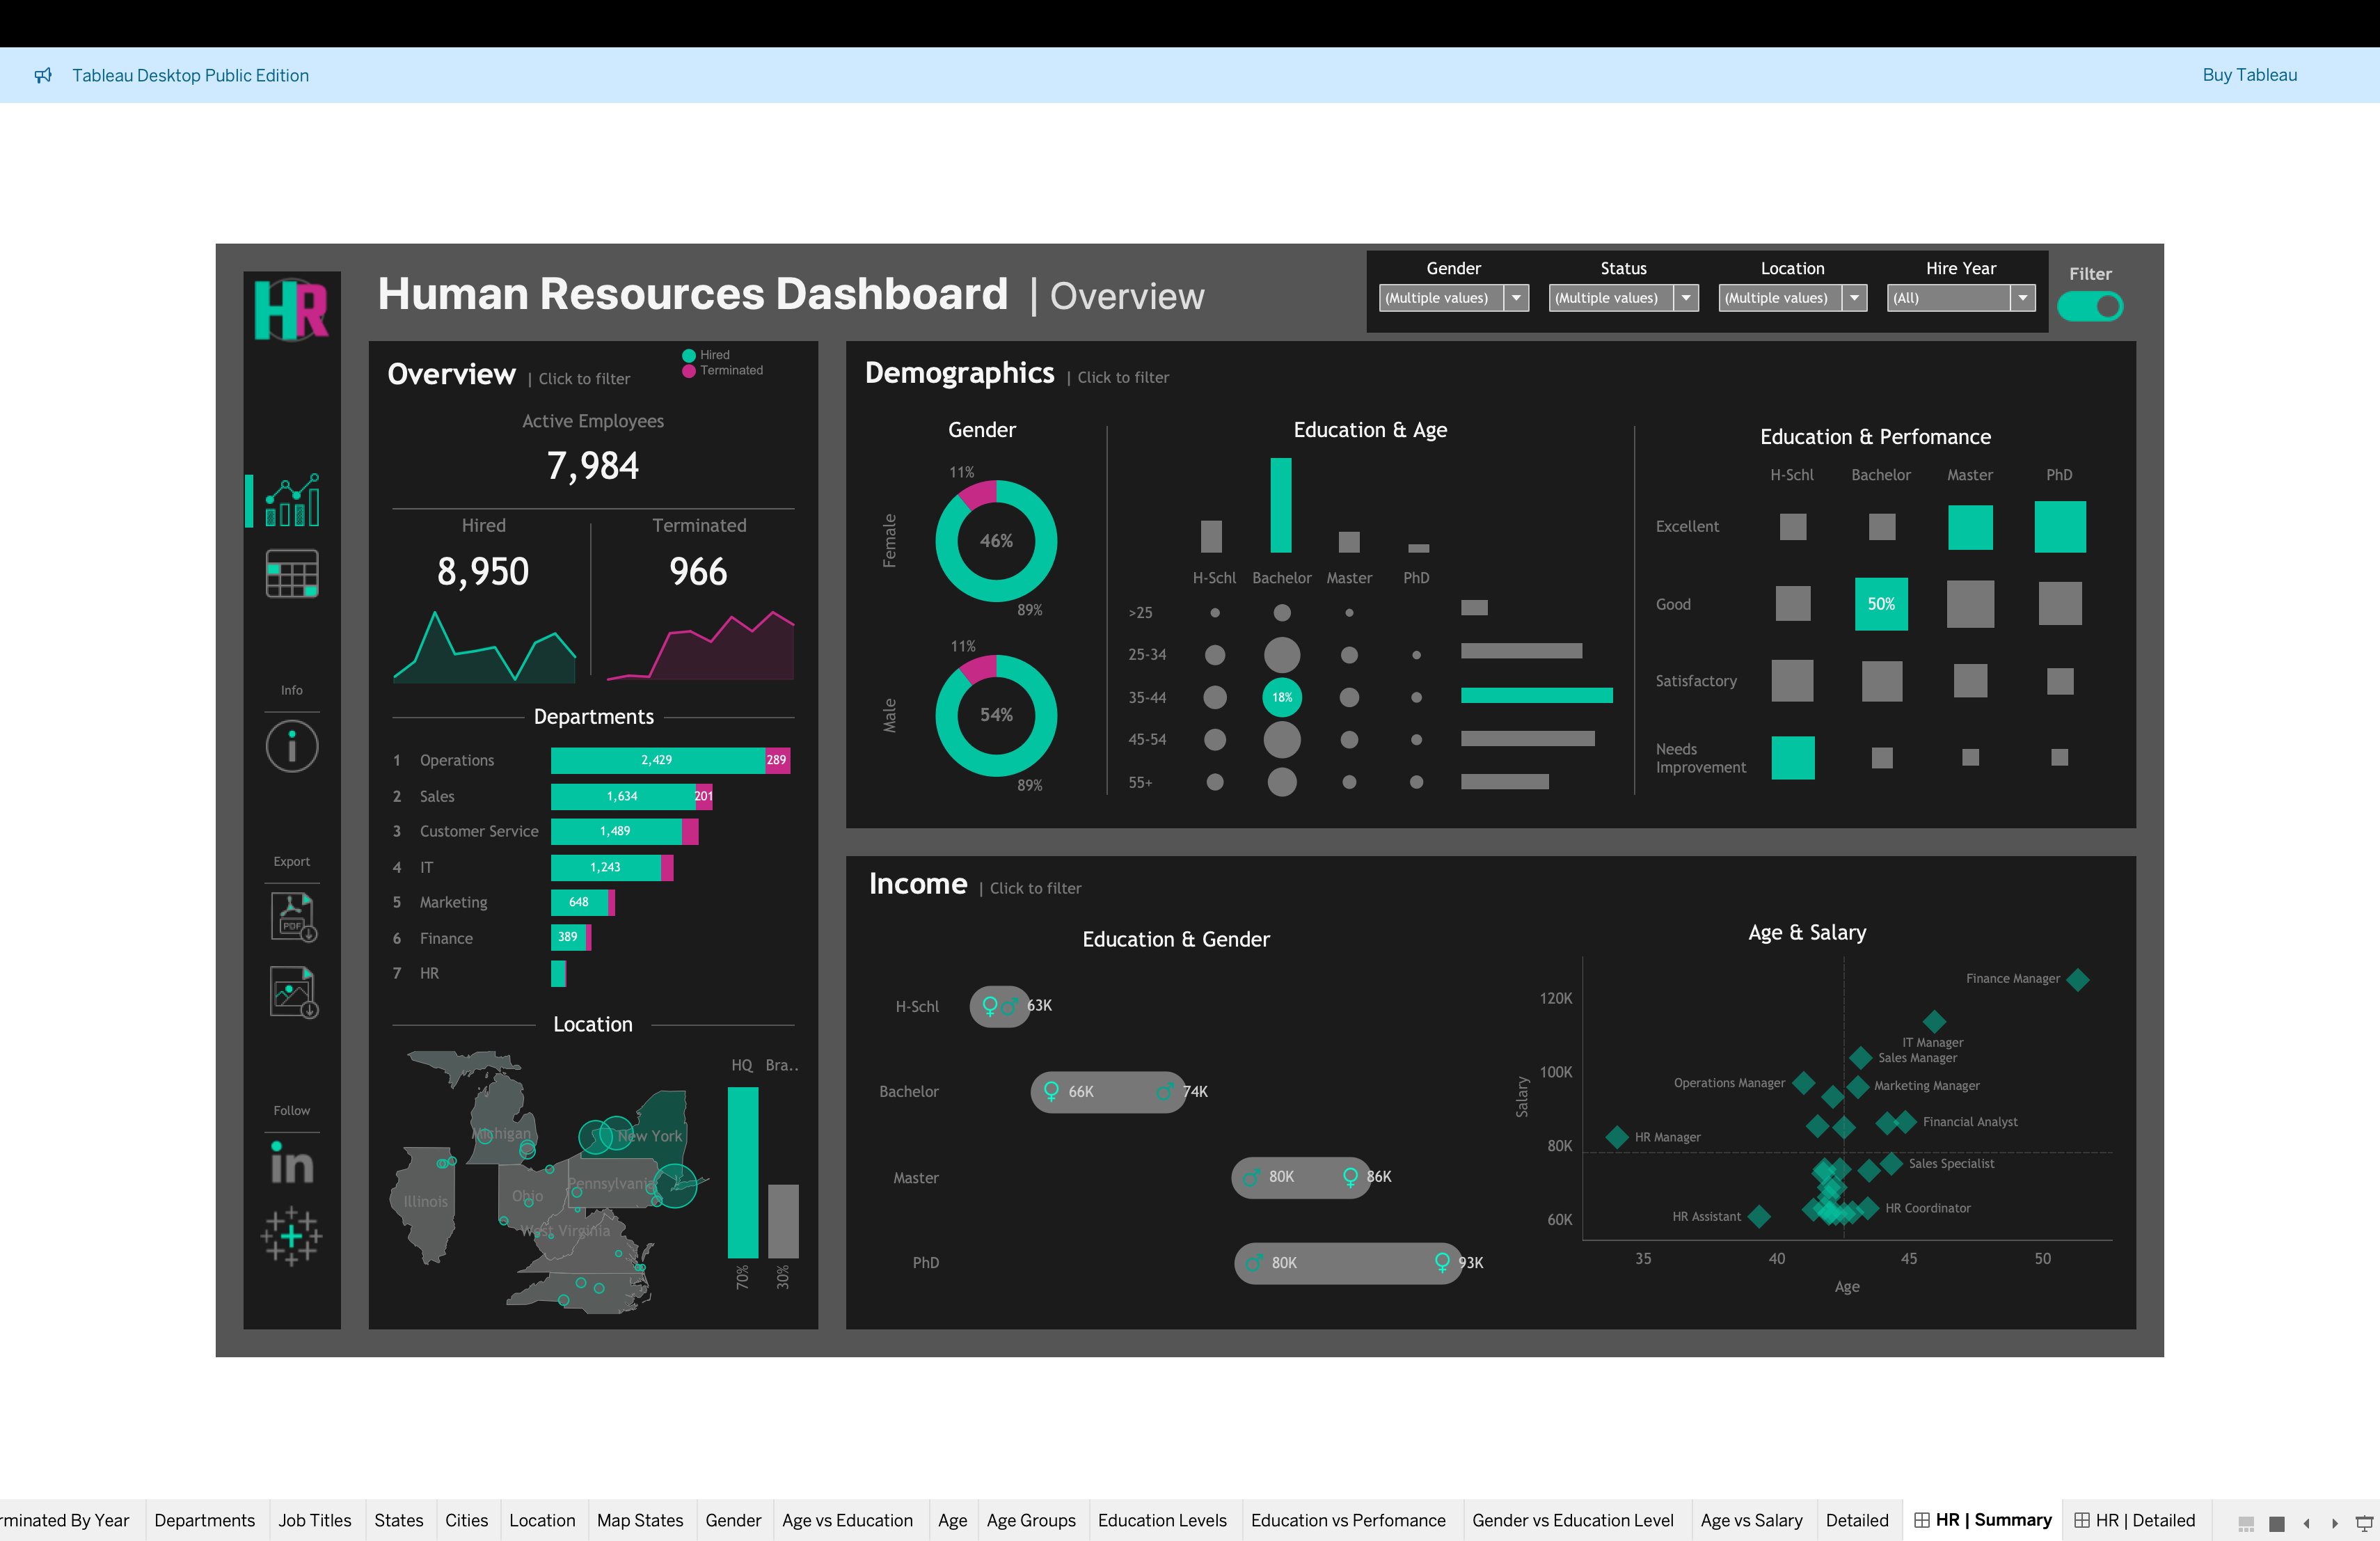

This screenshot's page, from the dashboard's own definition file:
{"tool":"tableau","page":{"name":"HR | Summary","canvas":[1400,800],"ordinal":1},"visuals":[{"type":"blank","box":[90,0,1310,242]},{"type":"text","box":[110,0,675,70]},{"type":"blank","box":[785,0,575,70]},{"type":"filter","title":"Gender vs Education Level","param":"[federated.1u8w5yp0jpzmf81a2zhn81l988m7].[none:Gender:nk]","box":[829,7,122,55]},{"type":"filter","title":"Gender vs Education Level","param":"[federated.1u8w5yp0jpzmf81a2zhn81l988m7].[none:Calculation_0079129225830400:nk]","box":[951,7,122,55]},{"type":"filter","title":"Gender vs Education Level","param":"[federated.1u8w5yp0jpzmf81a2zhn81l988m7].[none:Calculation_0173755192950790:nk]","box":[1073,7,121,55]},{"type":"filter","title":"Gender vs Education Level","param":"[federated.1u8w5yp0jpzmf81a2zhn81l988m7].[yr:Hiredate:ok]","box":[1194,7,121,55]},{"type":"text","box":[1316,9,63,26]},{"type":"image","param":"Image/Logo.png","box":[20,20,70,55]},{"type":"dashboard-object","box":[1323,28,48,35]},{"type":"text","box":[332,71,79,30]},{"type":"blank","box":[20,75,70,80]},{"type":"text","box":[117,77,309,33]},{"type":"text","box":[460,77,913,32]},{"type":"text","box":[117,110,309,30]},{"type":"text","box":[467,121,168,26]},{"type":"blank","box":[640,121,1,285]},{"type":"text","box":[646,121,368,26]},{"type":"blank","box":[1019,121,1,285]},{"type":"text","box":[1025,126,336,26]},{"type":"worksheet","title":"BAN Active","mark":"Text","box":[117,140,309,50]},{"type":"worksheet","title":"Gender","mark":"Pie","rows":["Gender"],"cols":["Calculation_0239451502592001","Calculation_0239451502592001"],"box":[467,147,168,259]},{"type":"worksheet","title":"Education Levels","mark":"Bar","rows":["Calculation_0173755185704960"],"cols":["Education Level"],"box":[646,147,368,79]},{"type":"worksheet","title":"Education vs Perfomance","mark":"Square","rows":["Performance Rating"],"cols":["Education Level"],"box":[1025,152,336,249]},{"type":"dashboard-object","box":[30,165,50,38]},{"type":"blank","box":[21,166,6,38]},{"type":"blank","box":[117,190,309,1]},{"type":"text","box":[117,191,152,24]},{"type":"blank","box":[269,191,1,129]},{"type":"text","box":[270,191,156,24]},{"type":"blank","box":[30,203,50,15]},{"type":"worksheet","title":"BAN Hired","mark":"Text","box":[117,215,152,42]},{"type":"worksheet","title":"BAN Terminated","mark":"Text","box":[270,215,156,42]},{"type":"dashboard-object","box":[30,218,50,38]},{"type":"worksheet","title":"Age vs Education","mark":"Pie","rows":["Calculation_0078648087810049"],"cols":["Education Level"],"box":[646,226,245,180]},{"type":"worksheet","title":"Age Groups","mark":"Bar","rows":["Calculation_0078648087810049"],"cols":["Calculation_0173755185704960"],"box":[891,226,123,180]},{"type":"text","box":[90,242,1310,226]},{"type":"blank","box":[30,256,50,55.6]},{"type":"worksheet","title":"Hired By Year","mark":"Line","rows":["Calculation_0173755185704960","Calculation_0173755185704960"],"cols":["Hiredate"],"box":[117,257,152,63]},{"type":"worksheet","title":"Terminated By Year","mark":"Line","rows":["Calculation_0173755185950721","Calculation_0173755185950721"],"cols":["Termdate"],"box":[270,257,156,63]},{"type":"text","box":[30,311.6,50,19]},{"type":"blank","box":[127,325,97,30]},{"type":"text","box":[224,325,96,30]},{"type":"blank","box":[320,325,96,30]},{"type":"blank","box":[30,330.6,50,11]},{"type":"dashboard-object","box":[30,341.6,50,38]},{"type":"worksheet","title":"Departments","mark":"Bar","rows":["Calculation_0173755192360965","Department"],"cols":["Calculation_0173755185704960"],"box":[117,355,309,186]},{"type":"blank","box":[30,379.6,50,55.6]},{"type":"text","box":[30,435.3,50,19]},{"type":"text","box":[460,447,913,25]},{"type":"blank","box":[30,454.3,50,11]},{"type":"dashboard-object","box":[30,465.3,50,38]},{"type":"blank","box":[90,468,1310,332]},{"type":"blank","box":[915.5,482,1,285]},{"type":"text","box":[921.5,482,446.5,26]},{"type":"text","box":[465,487,450.5,26]},{"type":"blank","box":[30,503.3,50,15]},{"type":"worksheet","title":"Age vs Salary","mark":"Shape","rows":["Salary"],"cols":["Calculation_0078648087457792"],"box":[921.5,508,446.5,259]},{"type":"worksheet","title":"Gender vs Education Level","mark":"Square","rows":["Education Level"],"cols":["Salary","Salary"],"box":[465,513,450.5,254]},{"type":"dashboard-object","box":[30,518.3,50,40]},{"type":"blank","box":[127,546,103,30]},{"type":"text","box":[230,546,83,30]},{"type":"blank","box":[313,546,103,30]},{"type":"blank","box":[30,558.3,50,55.6]},{"type":"worksheet","title":"Map States","mark":"Automatic","box":[117,576,243,197]},{"type":"worksheet","title":"Location","mark":"Bar","rows":["Calculation_0173755185704960"],"cols":["Calculation_0173755192950790","Calculation1"],"box":[360,576,66,197]},{"type":"text","box":[30,613.9,50,19]},{"type":"blank","box":[30,632.9,50,11]},{"type":"image","param":"Image/contact-linkedin.png","box":[30,643.9,50,32]},{"type":"blank","box":[30,675.9,50,15]},{"type":"image","param":"Image/contact-public.png","box":[30,690.9,50,45.3]}]}

Visuals, with their boxes on the page's 1400x800 design canvas (x1, y1, x2, y2). These are canvas units, not pixel positions in the 2380x1541 screenshot, which may show the page scaled, cropped or inside an application window:
blank: pyautogui.locateOnScreen(90, 0, 1400, 242)
text: pyautogui.locateOnScreen(110, 0, 785, 70)
blank: pyautogui.locateOnScreen(785, 0, 1360, 70)
"Gender vs Education Level" filter: pyautogui.locateOnScreen(829, 7, 951, 62)
"Gender vs Education Level" filter: pyautogui.locateOnScreen(951, 7, 1073, 62)
"Gender vs Education Level" filter: pyautogui.locateOnScreen(1073, 7, 1194, 62)
"Gender vs Education Level" filter: pyautogui.locateOnScreen(1194, 7, 1315, 62)
text: pyautogui.locateOnScreen(1316, 9, 1379, 35)
image: pyautogui.locateOnScreen(20, 20, 90, 75)
dashboard-object: pyautogui.locateOnScreen(1323, 28, 1371, 63)
text: pyautogui.locateOnScreen(332, 71, 411, 101)
blank: pyautogui.locateOnScreen(20, 75, 90, 155)
text: pyautogui.locateOnScreen(117, 77, 426, 110)
text: pyautogui.locateOnScreen(460, 77, 1373, 109)
text: pyautogui.locateOnScreen(117, 110, 426, 140)
text: pyautogui.locateOnScreen(467, 121, 635, 147)
blank: pyautogui.locateOnScreen(640, 121, 641, 406)
text: pyautogui.locateOnScreen(646, 121, 1014, 147)
blank: pyautogui.locateOnScreen(1019, 121, 1020, 406)
text: pyautogui.locateOnScreen(1025, 126, 1361, 152)
"BAN Active" worksheet (Text marks): pyautogui.locateOnScreen(117, 140, 426, 190)
"Gender" worksheet (Pie marks): pyautogui.locateOnScreen(467, 147, 635, 406)
"Education Levels" worksheet (Bar marks): pyautogui.locateOnScreen(646, 147, 1014, 226)
"Education vs Perfomance" worksheet (Square marks): pyautogui.locateOnScreen(1025, 152, 1361, 401)
dashboard-object: pyautogui.locateOnScreen(30, 165, 80, 203)
blank: pyautogui.locateOnScreen(21, 166, 27, 204)
blank: pyautogui.locateOnScreen(117, 190, 426, 191)
text: pyautogui.locateOnScreen(117, 191, 269, 215)
blank: pyautogui.locateOnScreen(269, 191, 270, 320)
text: pyautogui.locateOnScreen(270, 191, 426, 215)
blank: pyautogui.locateOnScreen(30, 203, 80, 218)
"BAN Hired" worksheet (Text marks): pyautogui.locateOnScreen(117, 215, 269, 257)
"BAN Terminated" worksheet (Text marks): pyautogui.locateOnScreen(270, 215, 426, 257)
dashboard-object: pyautogui.locateOnScreen(30, 218, 80, 256)
"Age vs Education" worksheet (Pie marks): pyautogui.locateOnScreen(646, 226, 891, 406)
"Age Groups" worksheet (Bar marks): pyautogui.locateOnScreen(891, 226, 1014, 406)
text: pyautogui.locateOnScreen(90, 242, 1400, 468)
blank: pyautogui.locateOnScreen(30, 256, 80, 312)
"Hired By Year" worksheet (Line marks): pyautogui.locateOnScreen(117, 257, 269, 320)
"Terminated By Year" worksheet (Line marks): pyautogui.locateOnScreen(270, 257, 426, 320)
text: pyautogui.locateOnScreen(30, 312, 80, 331)
blank: pyautogui.locateOnScreen(127, 325, 224, 355)
text: pyautogui.locateOnScreen(224, 325, 320, 355)
blank: pyautogui.locateOnScreen(320, 325, 416, 355)
blank: pyautogui.locateOnScreen(30, 331, 80, 342)
dashboard-object: pyautogui.locateOnScreen(30, 342, 80, 380)
"Departments" worksheet (Bar marks): pyautogui.locateOnScreen(117, 355, 426, 541)
blank: pyautogui.locateOnScreen(30, 380, 80, 435)
text: pyautogui.locateOnScreen(30, 435, 80, 454)
text: pyautogui.locateOnScreen(460, 447, 1373, 472)
blank: pyautogui.locateOnScreen(30, 454, 80, 465)
dashboard-object: pyautogui.locateOnScreen(30, 465, 80, 503)
blank: pyautogui.locateOnScreen(90, 468, 1400, 800)
blank: pyautogui.locateOnScreen(916, 482, 916, 767)
text: pyautogui.locateOnScreen(922, 482, 1368, 508)
text: pyautogui.locateOnScreen(465, 487, 916, 513)
blank: pyautogui.locateOnScreen(30, 503, 80, 518)
"Age vs Salary" worksheet (Shape marks): pyautogui.locateOnScreen(922, 508, 1368, 767)
"Gender vs Education Level" worksheet (Square marks): pyautogui.locateOnScreen(465, 513, 916, 767)
dashboard-object: pyautogui.locateOnScreen(30, 518, 80, 558)
blank: pyautogui.locateOnScreen(127, 546, 230, 576)
text: pyautogui.locateOnScreen(230, 546, 313, 576)
blank: pyautogui.locateOnScreen(313, 546, 416, 576)
blank: pyautogui.locateOnScreen(30, 558, 80, 614)
"Map States" worksheet: pyautogui.locateOnScreen(117, 576, 360, 773)
"Location" worksheet (Bar marks): pyautogui.locateOnScreen(360, 576, 426, 773)
text: pyautogui.locateOnScreen(30, 614, 80, 633)
blank: pyautogui.locateOnScreen(30, 633, 80, 644)
image: pyautogui.locateOnScreen(30, 644, 80, 676)
blank: pyautogui.locateOnScreen(30, 676, 80, 691)
image: pyautogui.locateOnScreen(30, 691, 80, 736)
